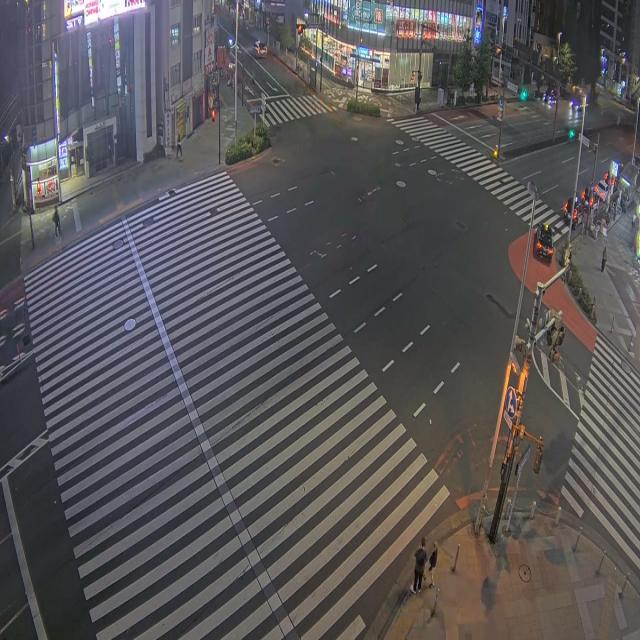car: (563, 194, 586, 228), (534, 224, 553, 261), (593, 180, 607, 201), (543, 89, 556, 104), (253, 41, 266, 56)
